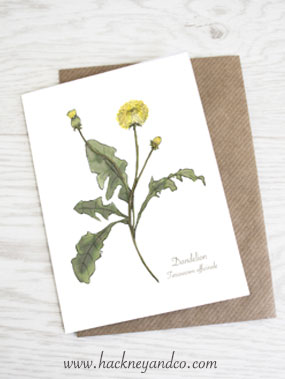dandelion: (109, 106, 160, 131)
